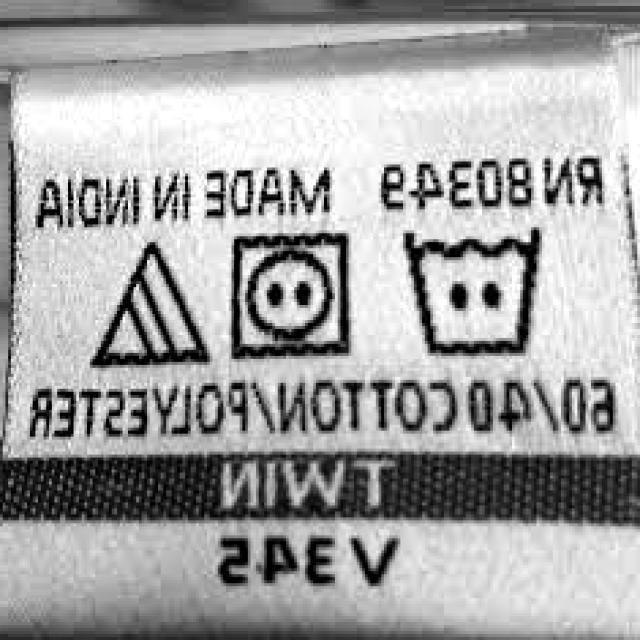40C: (395, 219, 553, 363)
non_chlorine_bleach: (86, 240, 217, 374)
tumble_dry_medium: (223, 227, 359, 361)
